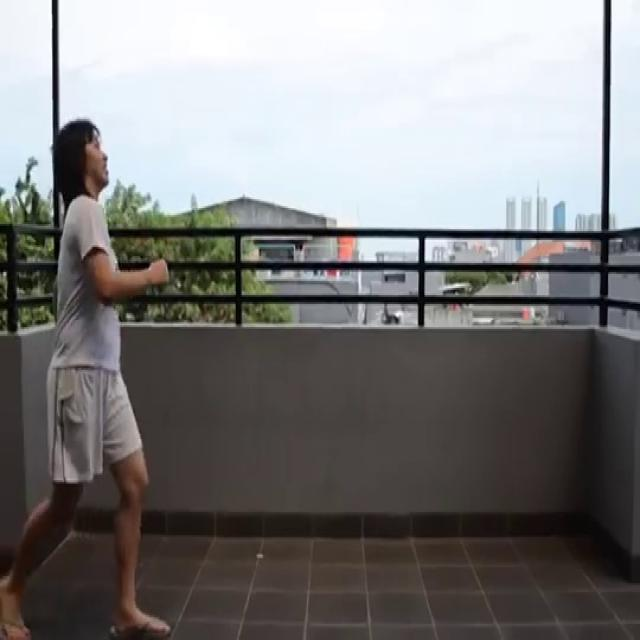normal: (4, 117, 178, 640)
